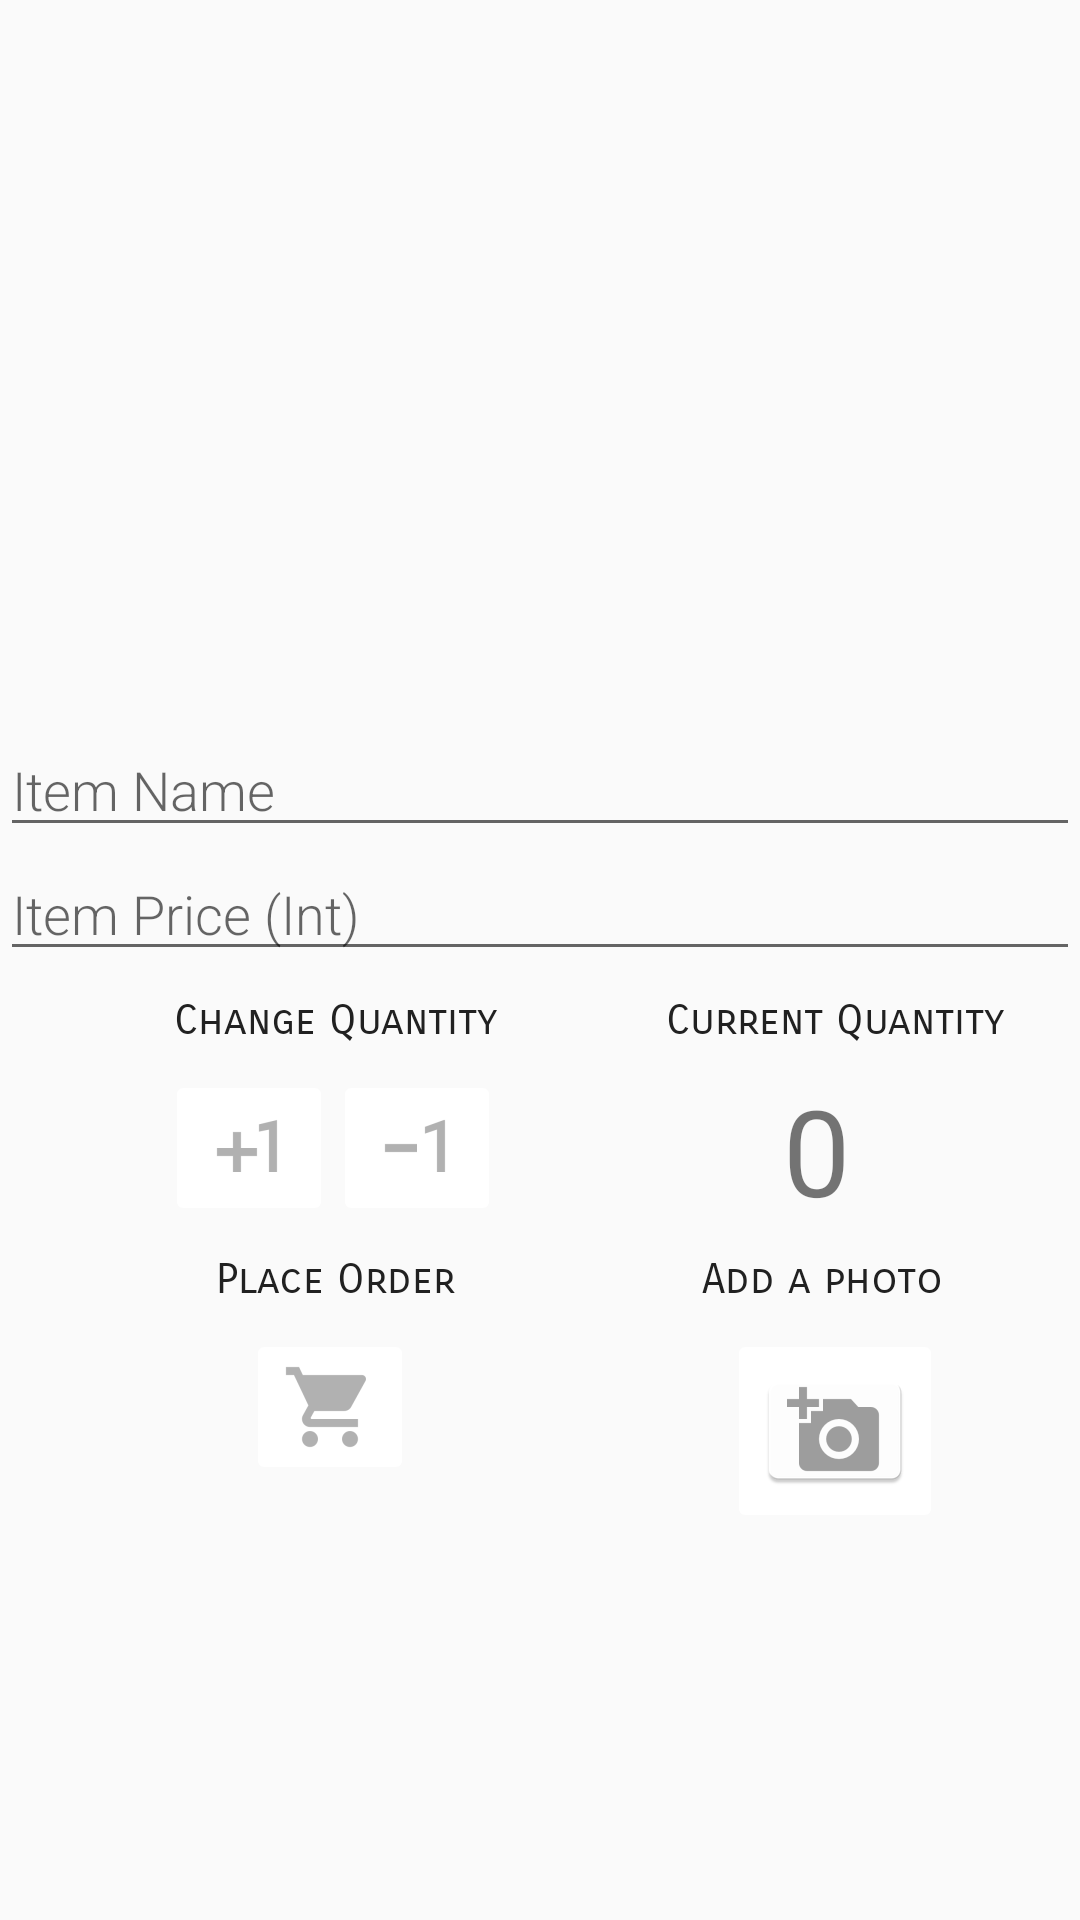

Point at icon controls on the screen. Image size 1080*1920, points as point (x, y).
camera icon: point (835, 1434)
shopping cart: point (326, 1407)
